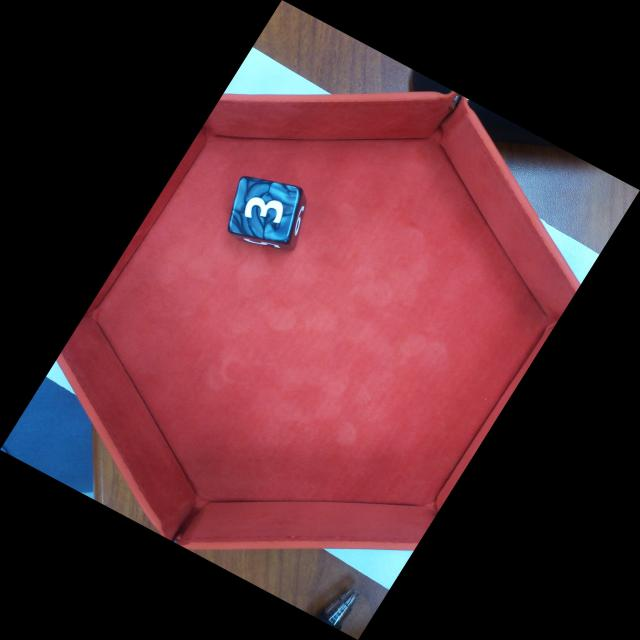dice: (228, 174, 302, 242)
